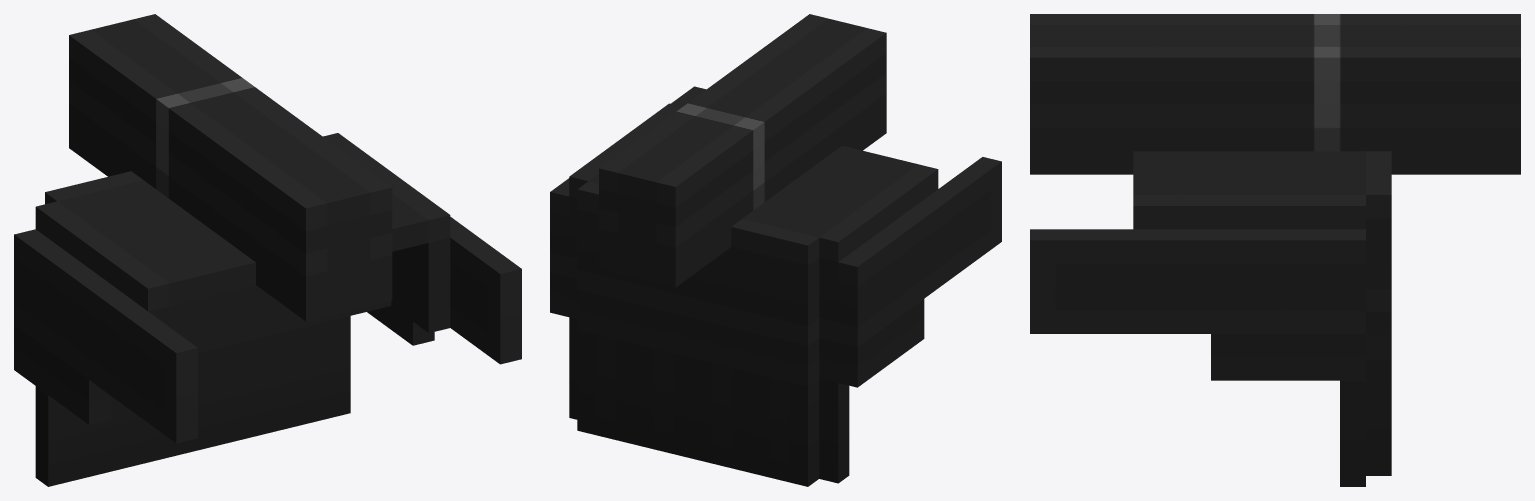
The model's file is Hair025.fbx.
The picture shows the model from 3 angles, left to right: view 1: azimuth 30°, elevation 25°; view 2: azimuth 150°, elevation 25°; view 3: azimuth 270°, elevation 25°; orthographic projection. The views are drawn at different scales.
Parts seen in each view (by area): view 1: Hair025; view 2: Hair025; view 3: Hair025.
Part boxes in pixels (box(x1,y1,x2,y2)): Hair025: box(14, 14, 521, 486); Hair025: box(550, 14, 1001, 486); Hair025: box(1030, 14, 1520, 486).
Size of the model in its own units: 15.68 by 15.68 by 18.62.
